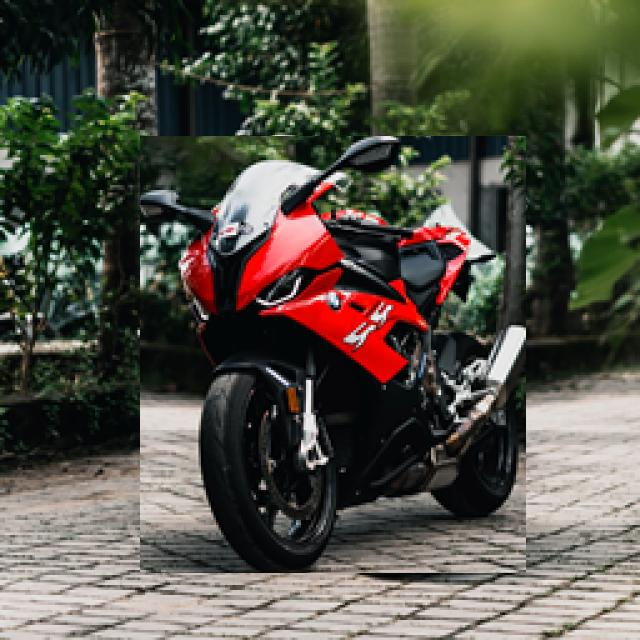motorcycle: (140, 136, 526, 573)
